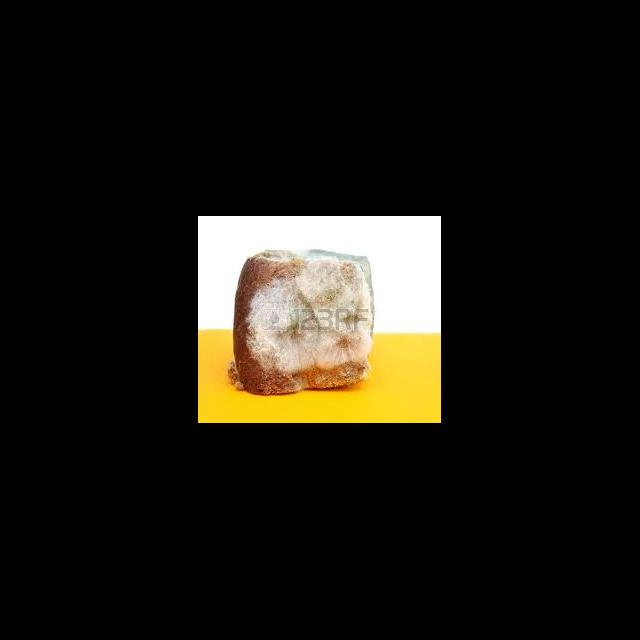food_waste: (218, 237, 387, 405)
